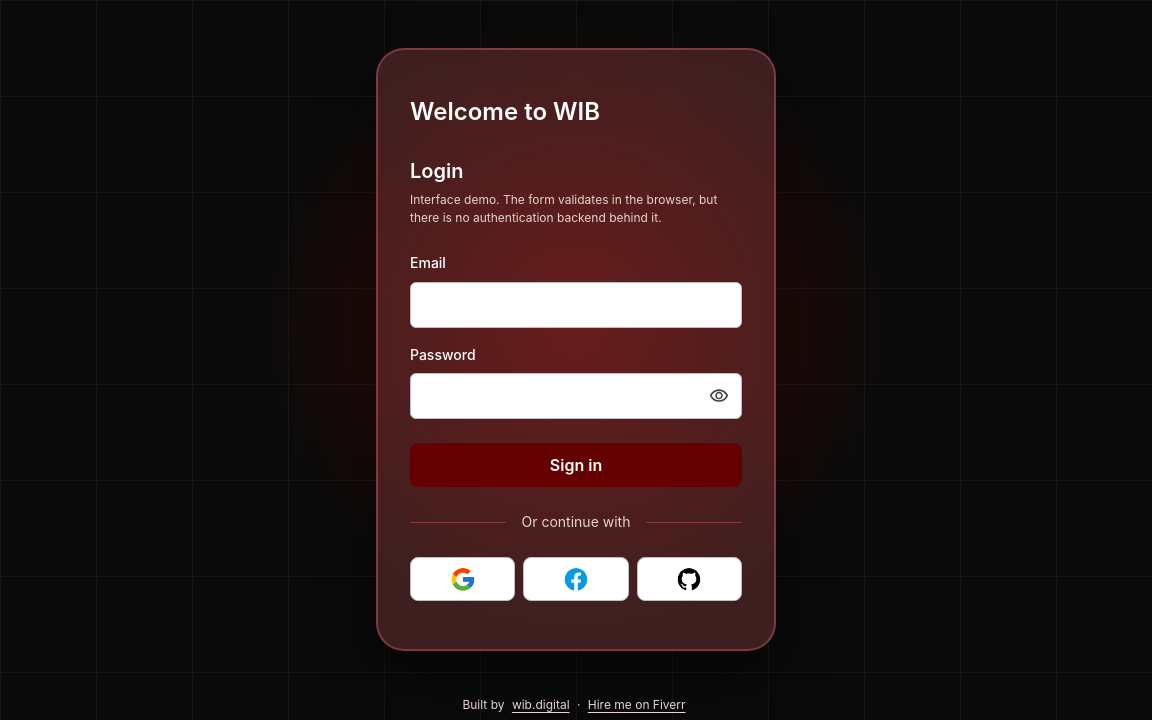
login screen › reports both fields as invalid when the form is submitted empty
Click the button "Sign in" at {"x": 576, "y": 465}, box [410,443,742,487]
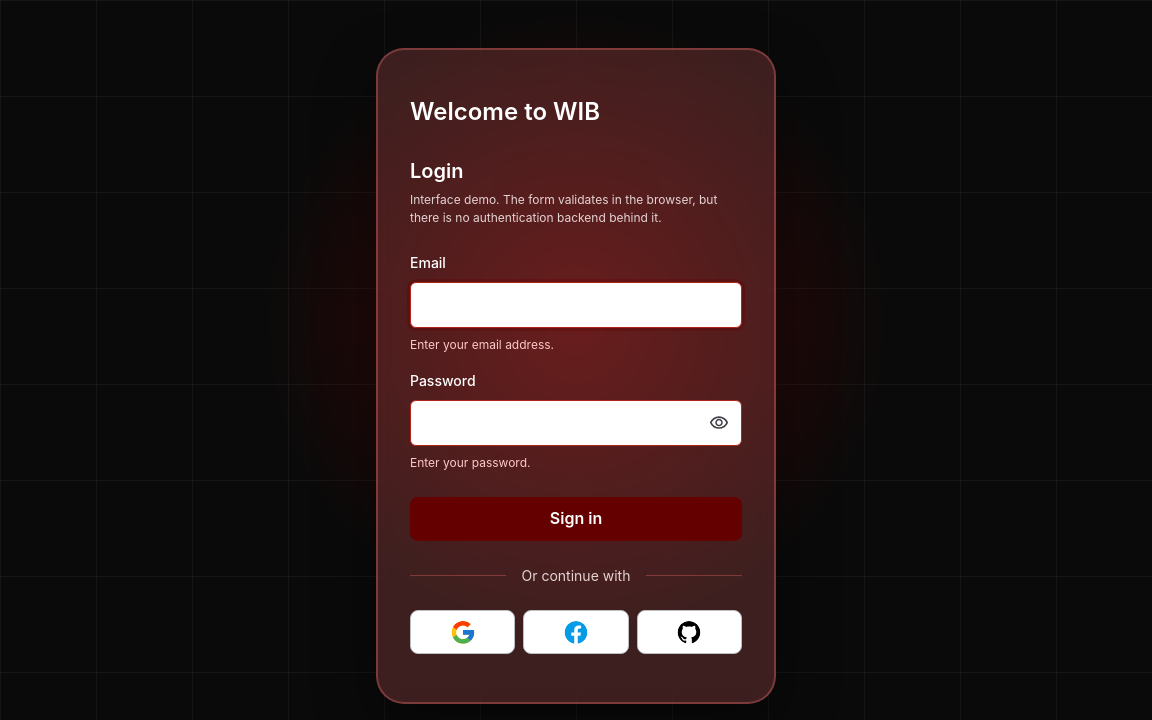
Expected: the text "Enter your email address." is shown, [410,337,554,352]
Expected: the text "Enter your password." is shown, [410,455,530,470]
